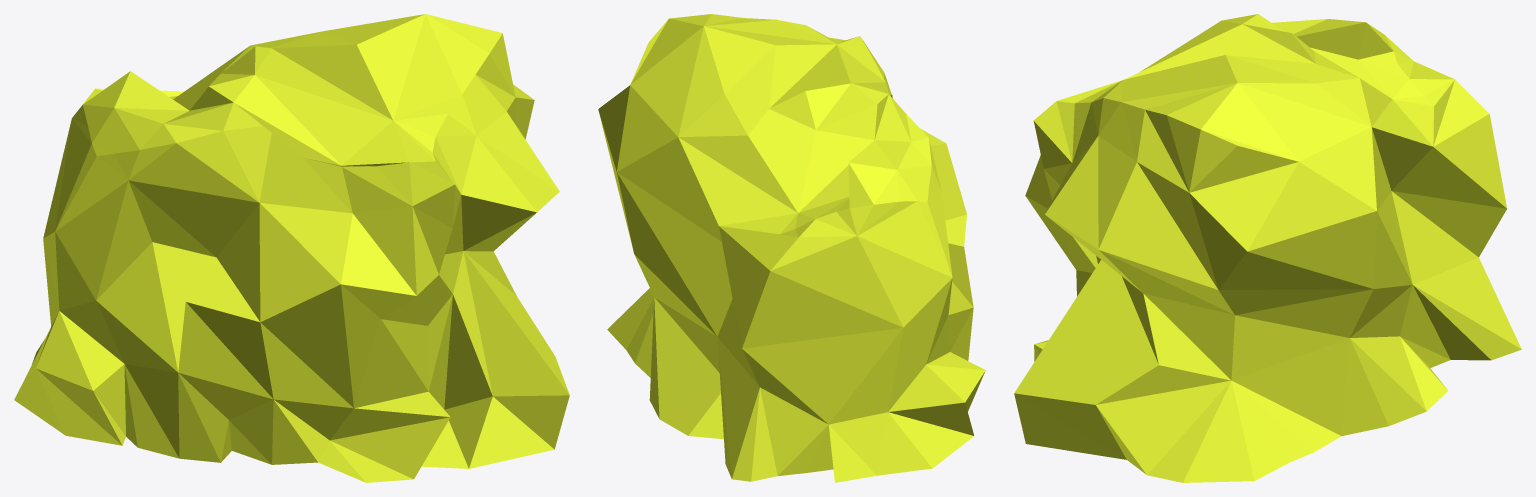
File: CoralRock_6.fbx
3 renders of one model, left to right at view 1: azimuth 30°, elevation 25°; view 2: azimuth 150°, elevation 25°; view 3: azimuth 270°, elevation 25°, orthographic. The views are drawn at different scales.
Visible parts, largest first — view 1: CoralRock_6; view 2: CoralRock_6; view 3: CoralRock_6.
Boxes of the visible parts, x1,y1,x2,y2 form: CoralRock_6: [14, 14, 569, 482]; CoralRock_6: [598, 14, 985, 482]; CoralRock_6: [1014, 14, 1521, 482].
Bounding box in the file's own units: 7316 × 5536 × 7243.
